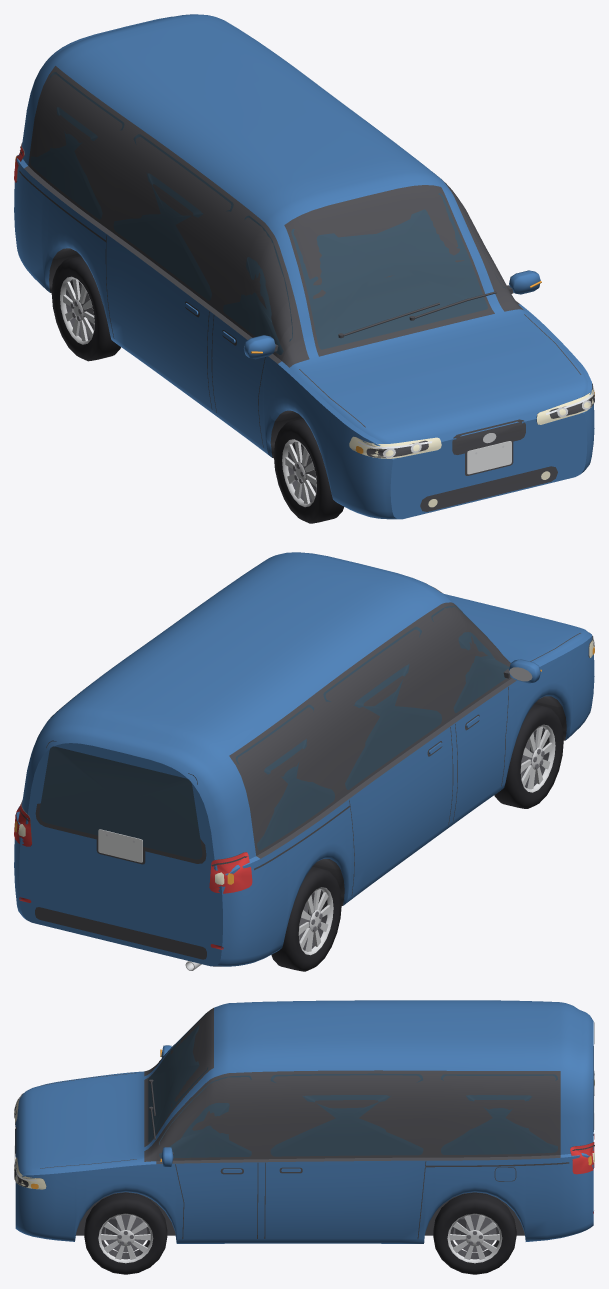
Rendered from 7_close.fbx.
The picture shows the model from 3 angles, top to bottom: view 1: azimuth 30°, elevation 25°; view 2: azimuth 150°, elevation 25°; view 3: azimuth 270°, elevation 25°; orthographic projection. The views are drawn at different scales.
Parts seen in each view (by area): view 1: 10_7_close; view 2: 10_7_close; view 3: 10_7_close.
Part boxes in pixels (box(x1,y1,x2,y2)): 10_7_close: box(14, 14, 594, 523); 10_7_close: box(14, 552, 594, 971); 10_7_close: box(14, 1000, 594, 1274).
Bounding box in the file's own units: 2.17 × 1.87 × 4.74.
